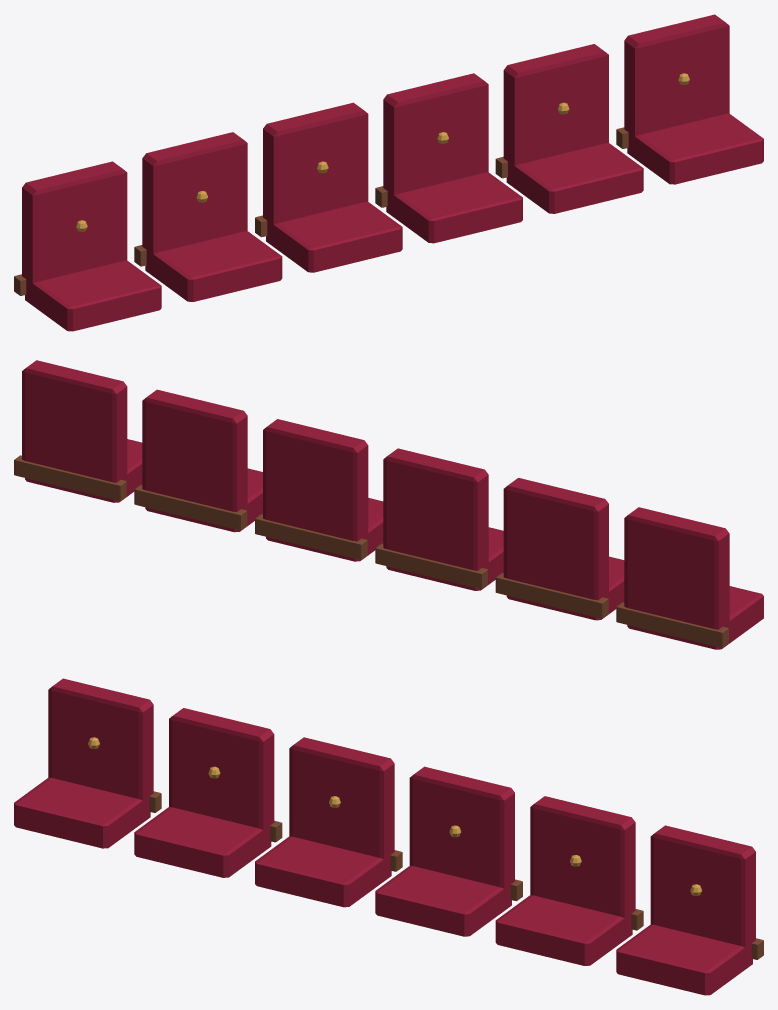
File: seat_row.glb
3 views of the same model, one above another, from view 1: azimuth 30°, elevation 25°; view 2: azimuth 150°, elevation 25°; view 3: azimuth 330°, elevation 25° (orthographic).
Visible parts, largest first — view 1: back_3, back_0, back_1, back_5, back_4, back_2, seat_1, seat_4, seat_5, seat_2, seat_0, seat_3; view 2: back_3, back_1, back_4, back_0, back_2, back_5, frame_1, frame_4, frame_0, frame_2, frame_5, frame_3 (+6 smaller); view 3: back_4, back_1, back_2, back_0, back_5, back_3, seat_5, seat_0, seat_3, seat_4, seat_1, seat_2.
Part boxes in pixels (box(x1,y1,x2,y2)): back_3: box(383, 73, 488, 200); back_0: box(22, 161, 127, 287); back_1: box(142, 132, 247, 258); back_5: box(624, 14, 729, 136); back_4: box(503, 44, 608, 165); back_2: box(263, 102, 368, 224); seat_1: box(145, 231, 282, 301); seat_4: box(506, 143, 643, 213); seat_5: box(627, 113, 763, 184); seat_2: box(266, 201, 402, 272); seat_0: box(25, 260, 161, 331); seat_3: box(386, 172, 522, 243); back_3: box(263, 419, 368, 541); back_1: box(503, 478, 608, 600); back_4: box(142, 389, 247, 511); back_0: box(624, 507, 729, 629); back_2: box(383, 448, 488, 570); back_5: box(22, 360, 127, 482); frame_1: box(495, 573, 608, 618); frame_4: box(134, 485, 247, 530); frame_0: box(616, 602, 728, 647); frame_2: box(375, 543, 487, 588); frame_5: box(14, 455, 126, 500); frame_3: box(255, 514, 367, 559); back_4: box(530, 796, 635, 923); back_1: box(169, 708, 274, 835); back_2: box(289, 737, 394, 864); back_0: box(48, 678, 153, 803); back_5: box(650, 825, 755, 947); back_3: box(409, 766, 514, 888); seat_5: box(616, 924, 752, 995); seat_0: box(14, 777, 150, 848); seat_3: box(375, 865, 511, 936); seat_4: box(495, 895, 632, 965); seat_1: box(134, 807, 271, 877); seat_2: box(255, 836, 391, 907).
Size of the model in its own units: 7.65 by 1.19 by 0.92.
